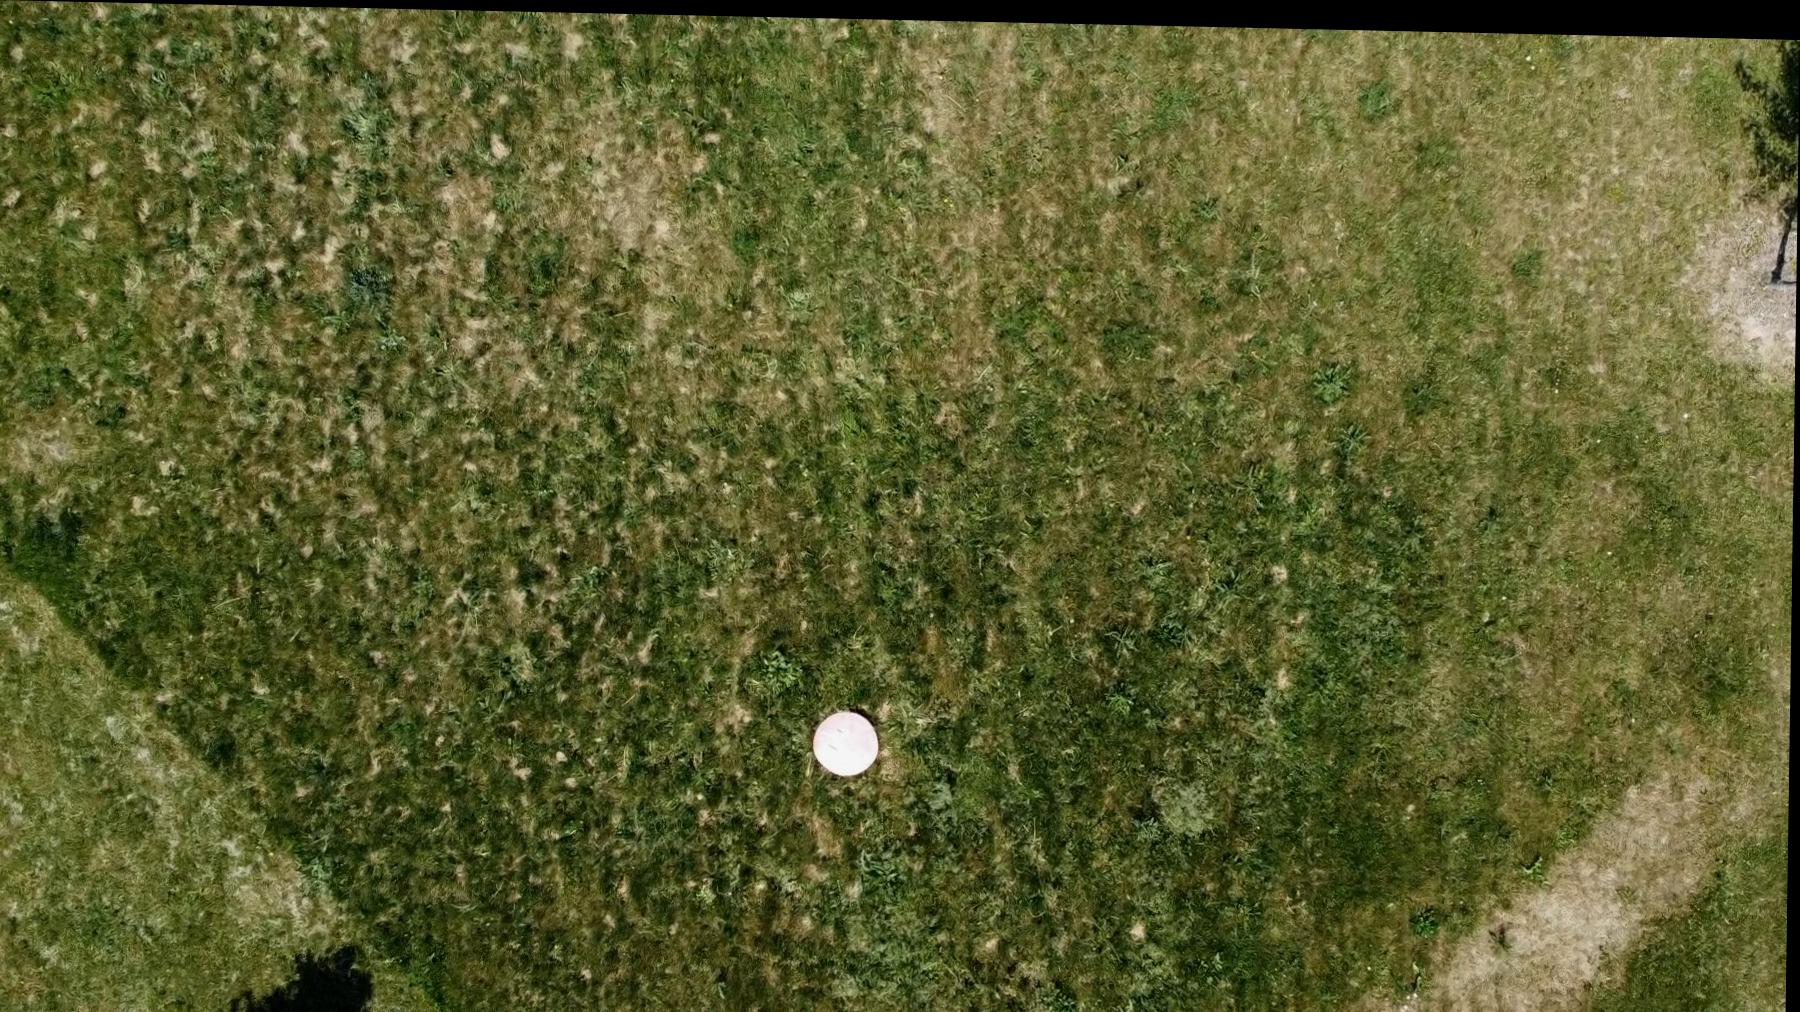Red: (812, 706, 884, 776)
